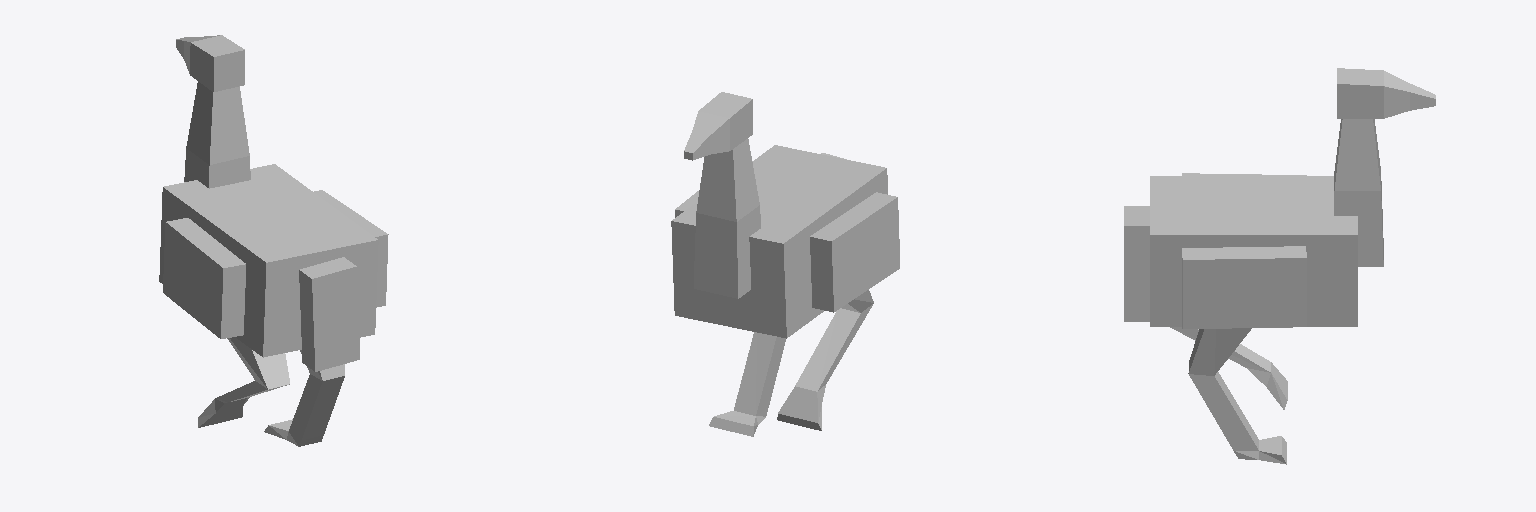
Rendered from Ostrich_000198.obj.
3 views of the same model, side by side, from view 1: azimuth 30°, elevation 25°; view 2: azimuth 150°, elevation 25°; view 3: azimuth 270°, elevation 25° (orthographic).
Visible parts, largest first — view 1: Cube_Cube.001; view 2: Cube_Cube.001; view 3: Cube_Cube.001.
Part boxes in pixels (bbox=[...]): Cube_Cube.001: bbox=[159, 35, 388, 446]; Cube_Cube.001: bbox=[671, 92, 899, 436]; Cube_Cube.001: bbox=[1124, 68, 1435, 464].
Size of the model in its own units: 0.7466 by 1.54 by 1.2.